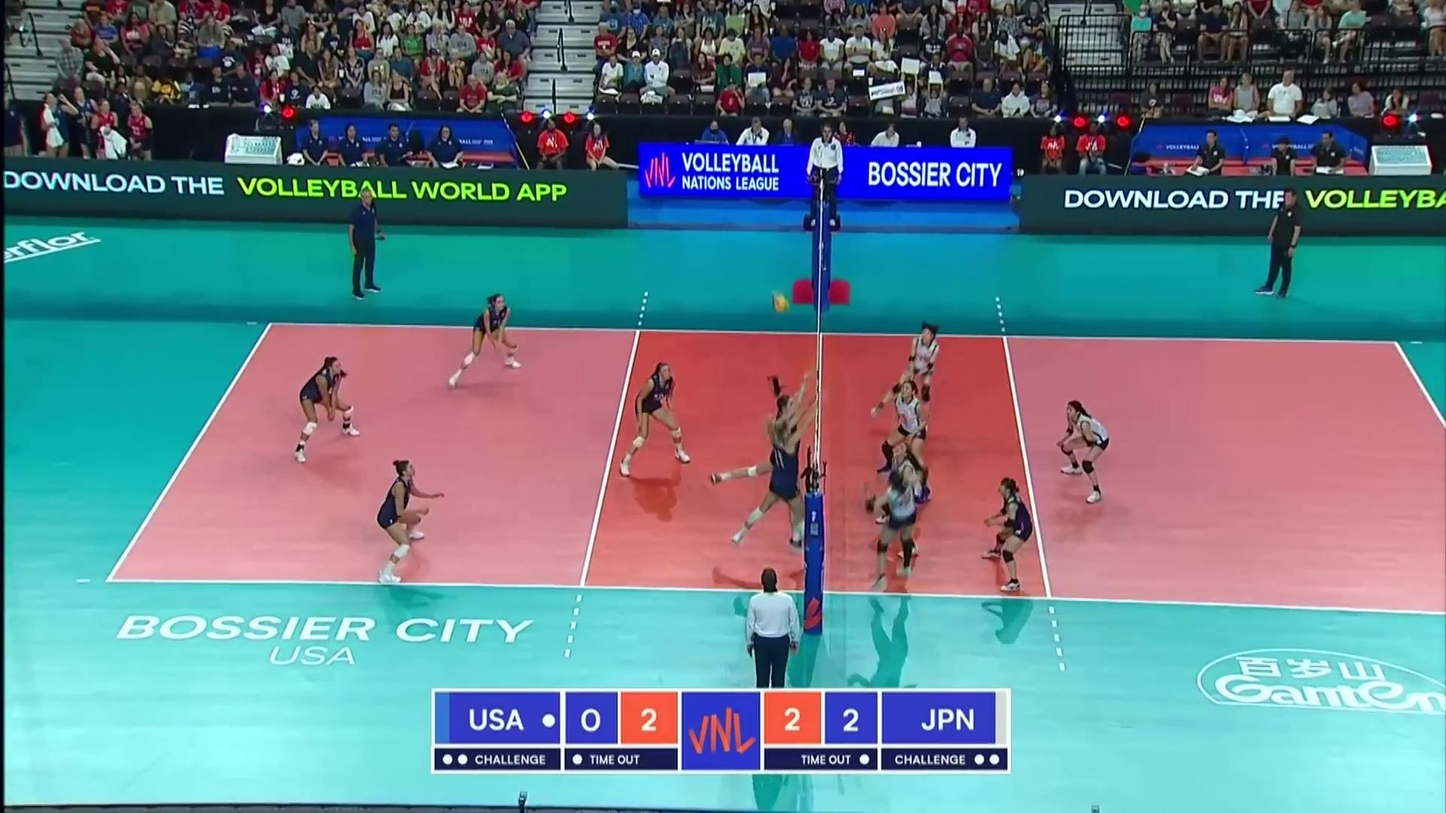player: (711, 370, 815, 530), (732, 394, 818, 551), (619, 364, 692, 477), (378, 460, 443, 581), (873, 318, 939, 436), (295, 354, 359, 466), (451, 295, 525, 389), (868, 462, 921, 590), (982, 478, 1034, 594), (883, 381, 933, 500), (1056, 401, 1112, 505), (877, 443, 921, 550)
refree: (745, 568, 799, 688), (804, 125, 843, 225)
